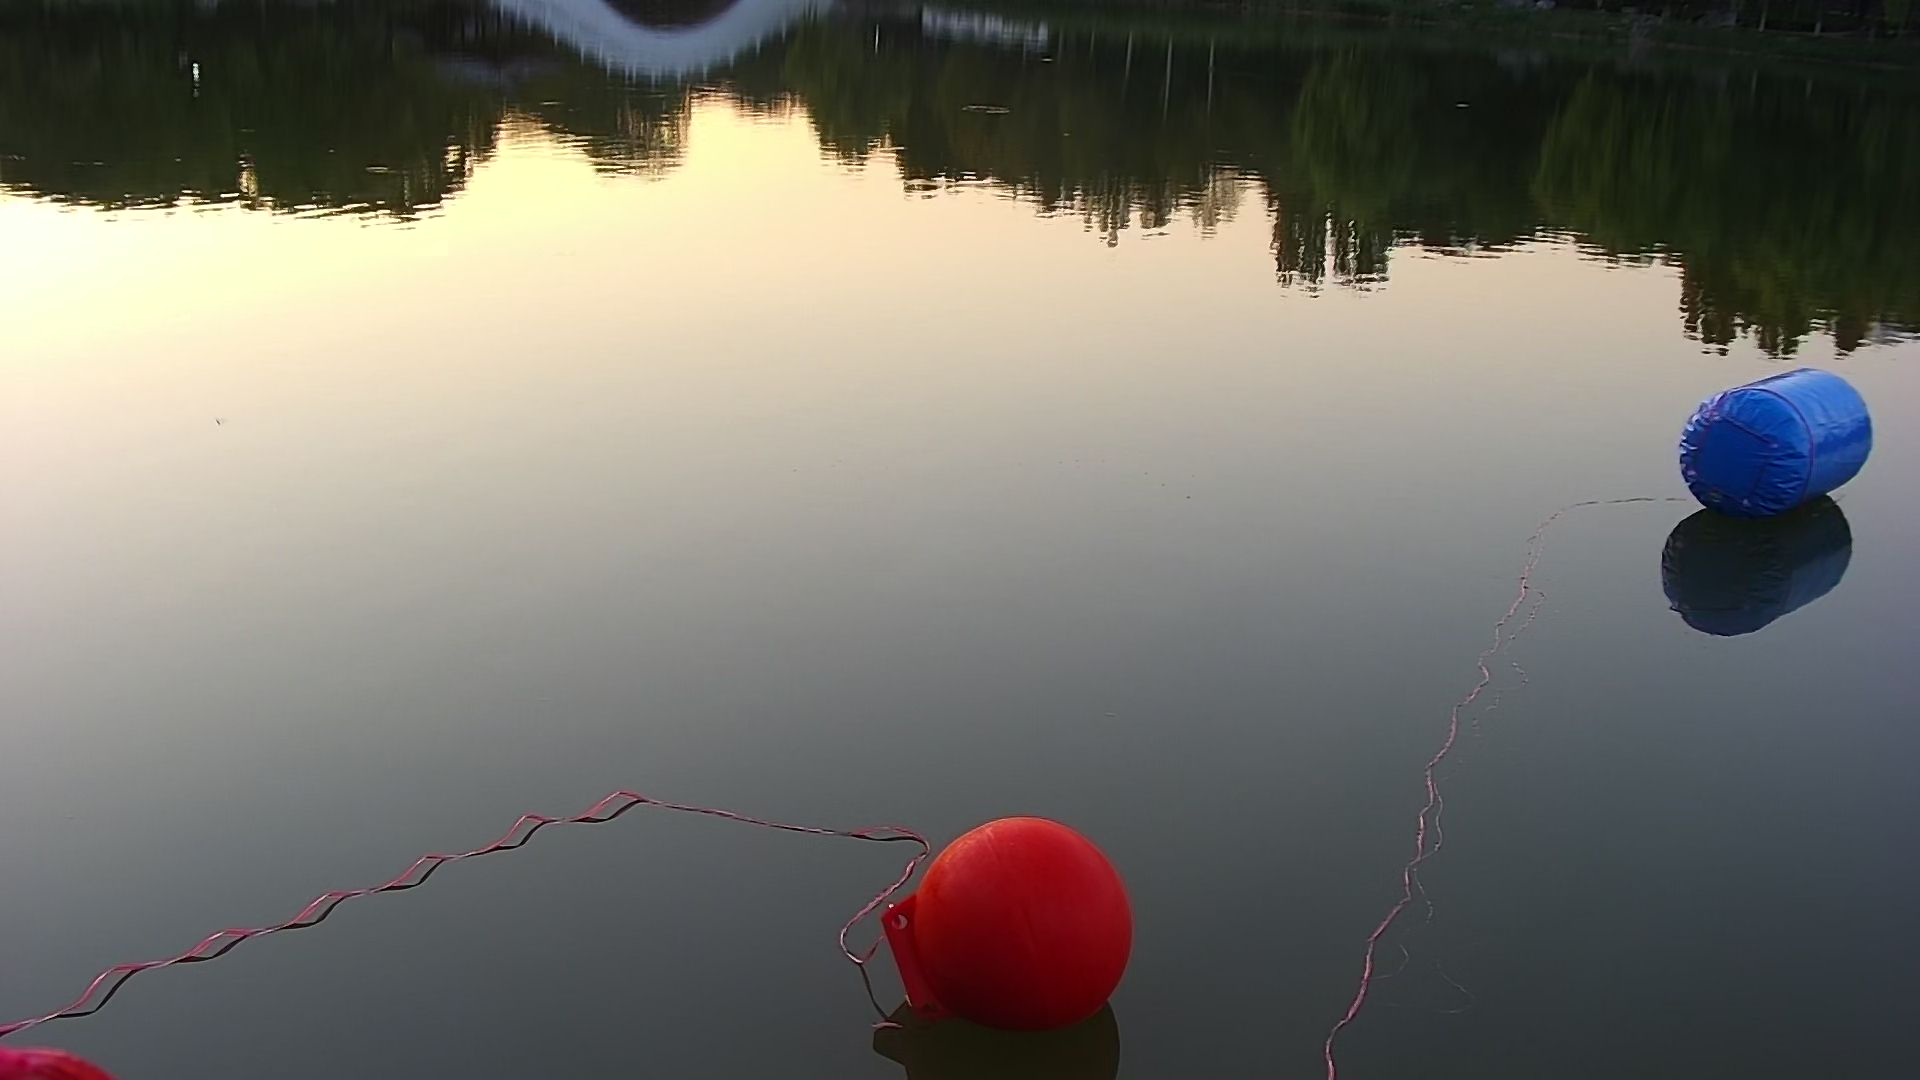ball: (890, 814, 1138, 1036)
rubbish: (1669, 363, 1880, 516)
